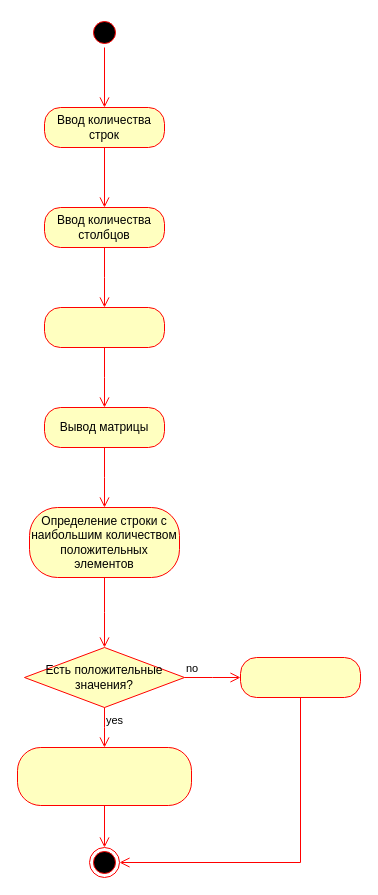
Some shapes in this 378 by 895 pixel diagram are drawn without their labels. The shapes that lost their labels are listed below. From the top down, each one's centre as x and y in pixels, then its label:
point (104, 327): Ввод переменных
point (300, 677): Вывод "В матрице нет положительных значений"
point (104, 776): Вывод строки с наибольшим количеством положительных элементов и их количество
